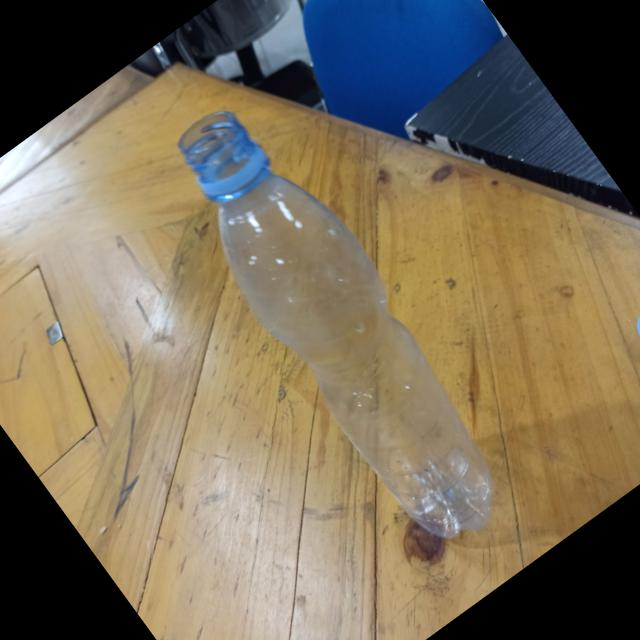BotolPlastik: (140, 83, 538, 563)
